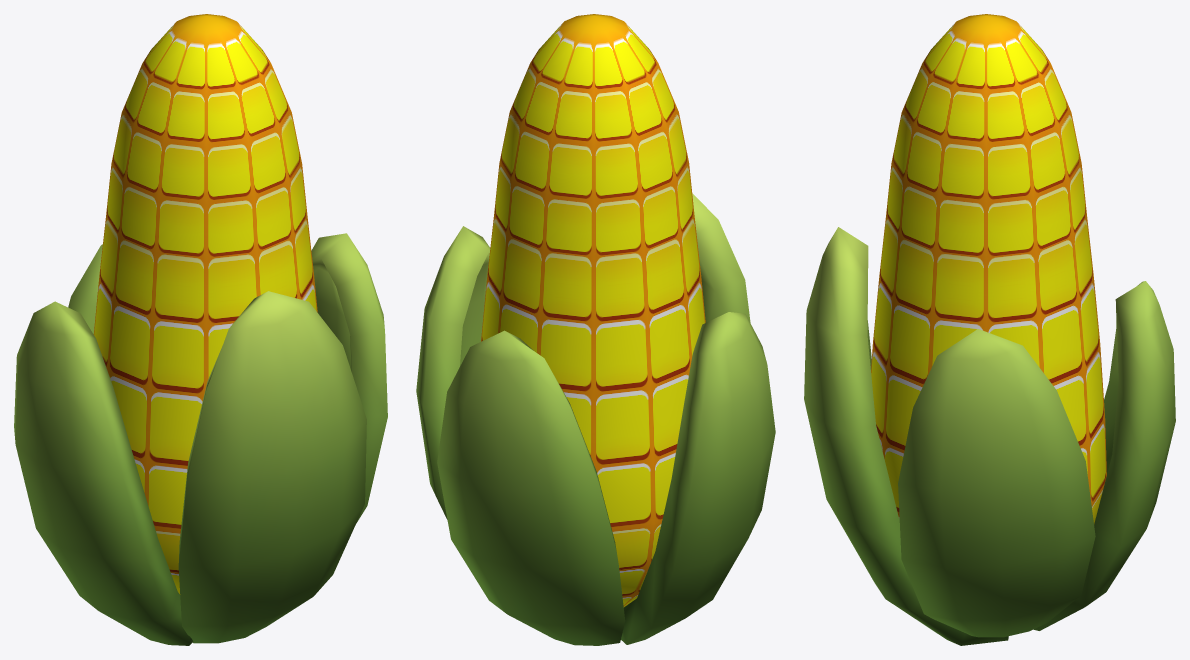
Rendered from Corn.fbx.
The picture shows the model from 3 angles, left to right: view 1: azimuth 30°, elevation 25°; view 2: azimuth 150°, elevation 25°; view 3: azimuth 270°, elevation 25°; orthographic projection.
Parts seen in each view (by area): view 1: Base.006, Leaf3, Leaf4, Leaf1, Leaf5; view 2: Base.006, Leaf5, Leaf4, Leaf1, Leaf3; view 3: Base.006, Leaf1, Leaf3, Leaf5.
Part boxes in pixels (x1=…): Base.006: x1=93, y1=14, x2=317, y2=594; Leaf3: x1=178, y1=291, x2=366, y2=643; Leaf4: x1=14, y1=301, x2=193, y2=645; Leaf1: x1=311, y1=233, x2=387, y2=523; Leaf5: x1=68, y1=244, x2=102, y2=333; Base.006: x1=481, y1=14, x2=705, y2=607; Leaf5: x1=437, y1=330, x2=625, y2=645; Leaf4: x1=621, y1=312, x2=775, y2=644; Leaf1: x1=416, y1=226, x2=490, y2=519; Leaf3: x1=692, y1=193, x2=750, y2=322; Base.006: x1=871, y1=14, x2=1106, y2=524; Leaf1: x1=898, y1=329, x2=1095, y2=637; Leaf3: x1=804, y1=227, x2=1008, y2=645; Leaf5: x1=1034, y1=281, x2=1175, y2=630.
Size of the model in its own units: 100 by 179 by 97.71.
